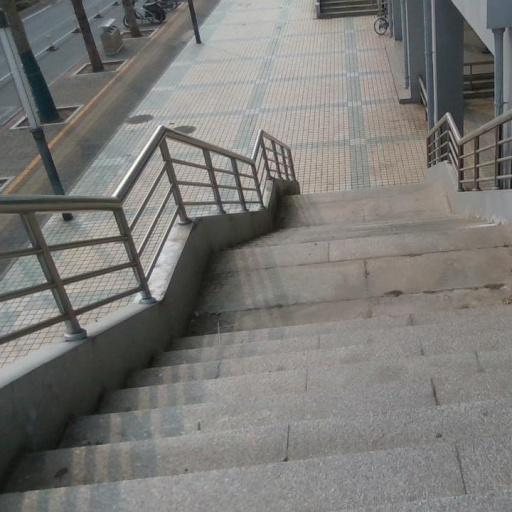stairs: (0, 185, 511, 511), (317, 0, 379, 17)
